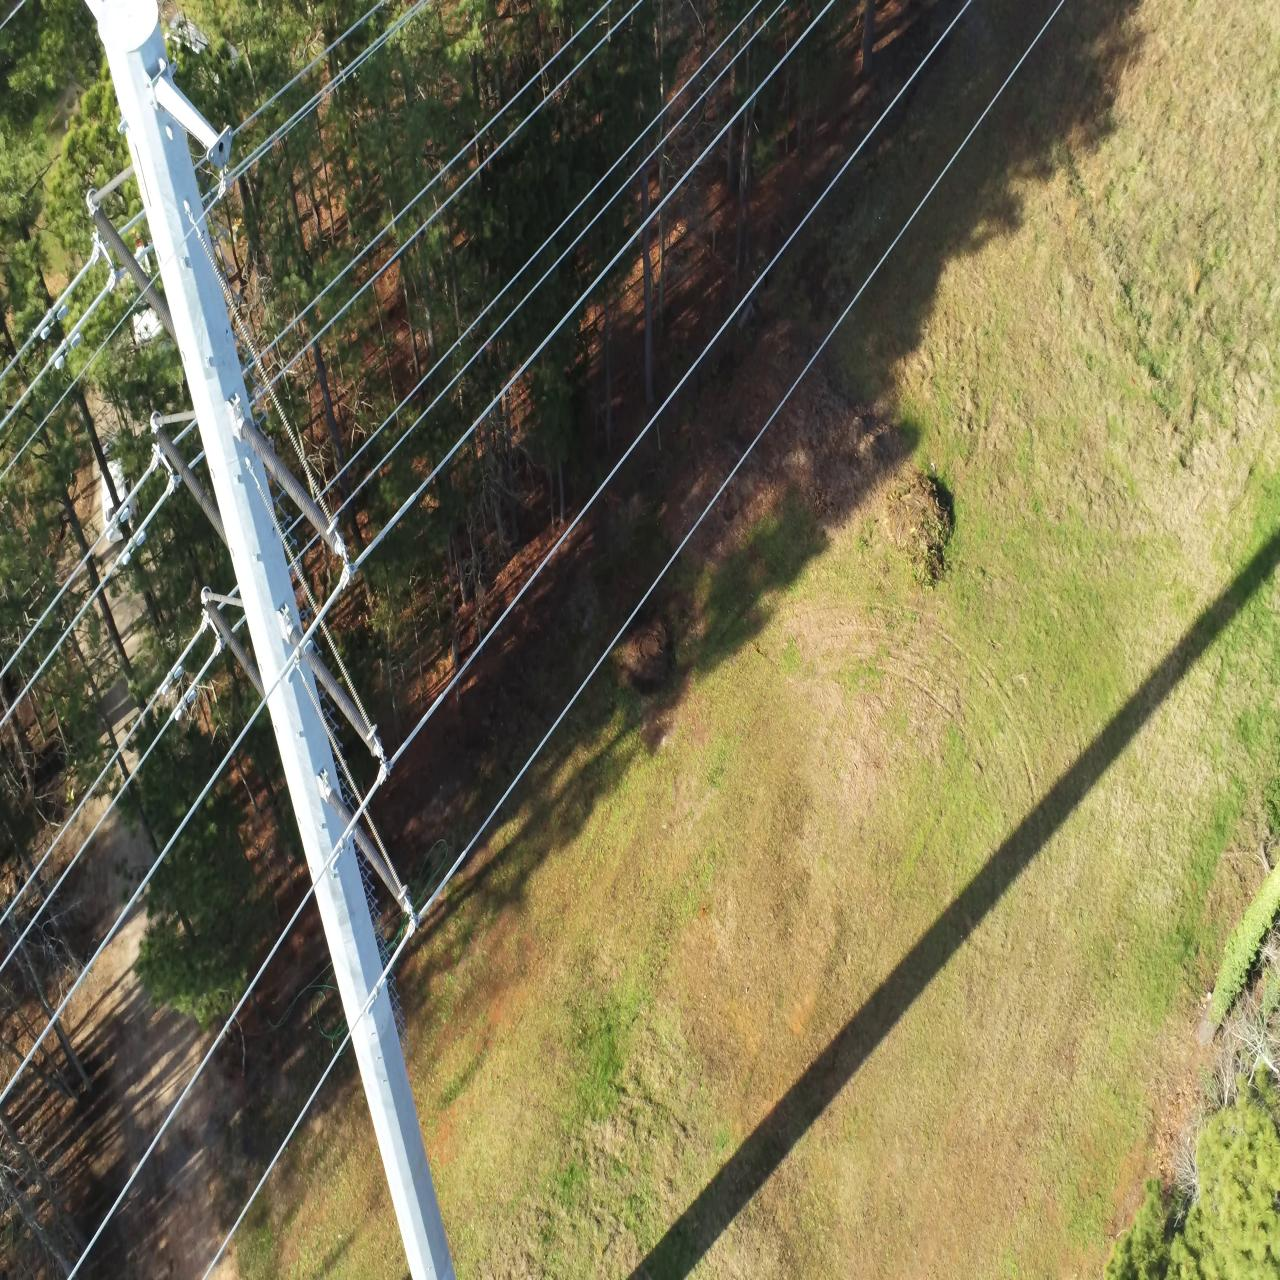cable: (465, 0, 1064, 852), (443, 0, 972, 696), (332, 1, 787, 520), (321, 0, 762, 496), (416, 0, 835, 496), (271, 0, 644, 384), (259, 0, 612, 358), (0, 700, 265, 1104), (68, 885, 313, 1279), (9, 717, 171, 960), (227, 0, 430, 186), (203, 1032, 350, 1279), (0, 293, 144, 479), (233, 0, 386, 136), (0, 564, 116, 727), (0, 362, 50, 430), (0, 335, 34, 380), (0, 0, 26, 29)
tower_tucohy: (33, 0, 467, 1279)
